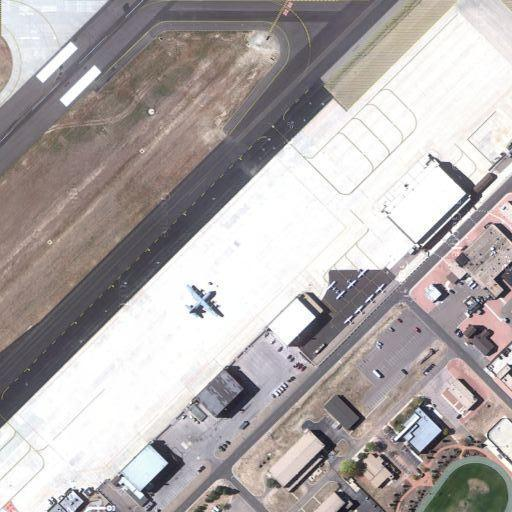C-130: (185, 279, 222, 323)
